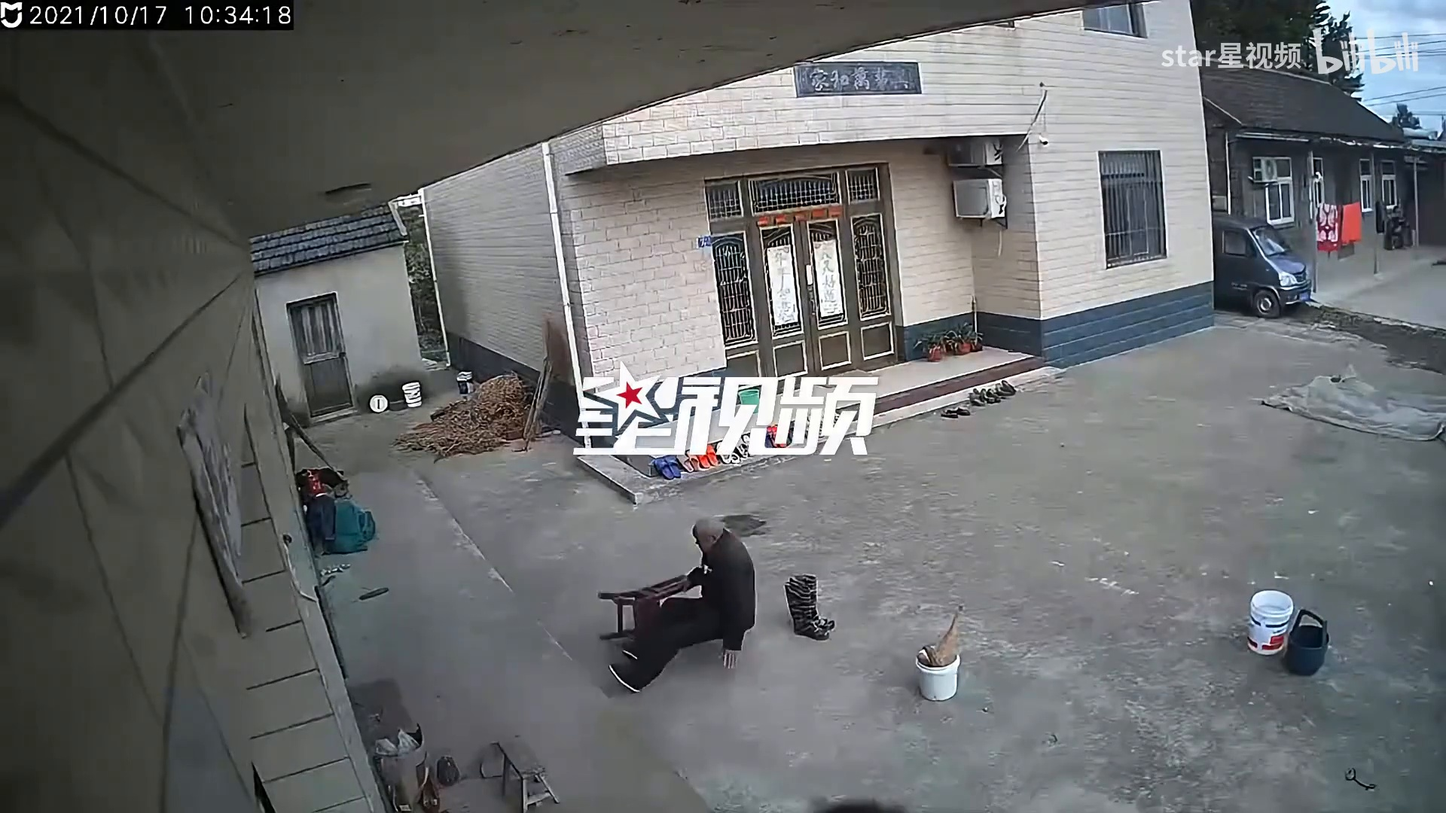half_up: (608, 516, 755, 693)
